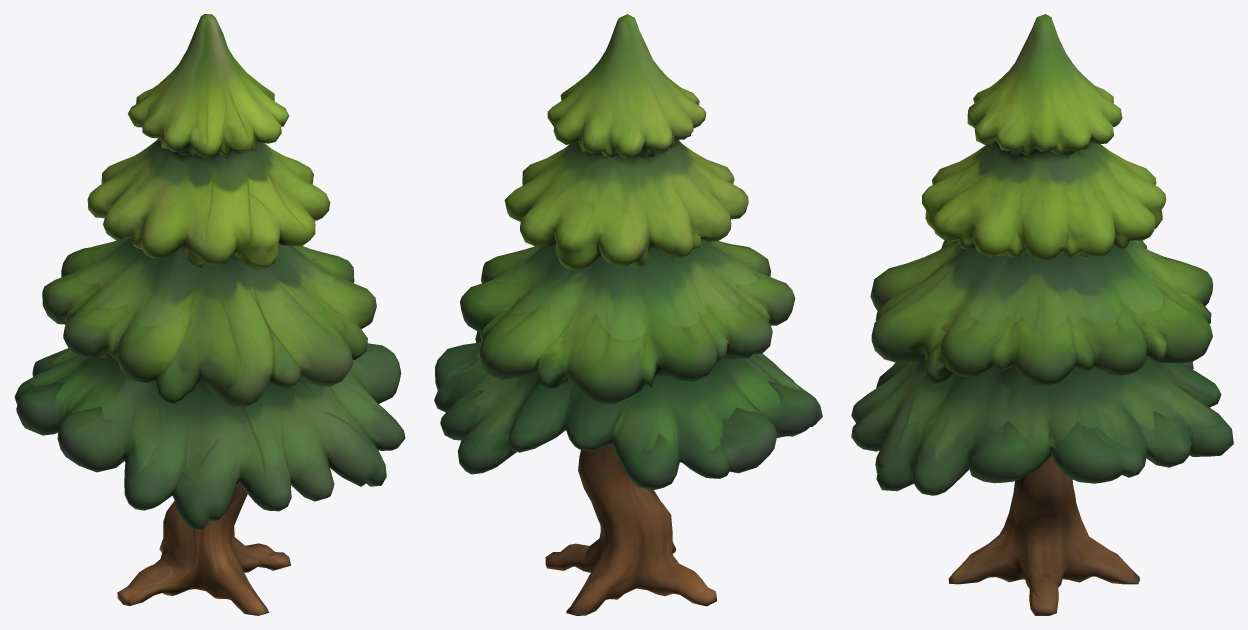
Rendered from Evergreen_Whimsy_1006115752_texture.fbx.
3 views of the same model, side by side, from view 1: azimuth 30°, elevation 25°; view 2: azimuth 150°, elevation 25°; view 3: azimuth 270°, elevation 25° (orthographic).
Visible parts, largest first — view 1: input; view 2: input; view 3: input.
Boxes of the visible parts, x1,y1,x2,y2 form: input: [14, 14, 405, 615]; input: [434, 14, 822, 615]; input: [851, 14, 1233, 615].
Size of the model in its own units: 617 by 1000 by 616.
1 material, 1 textured.
